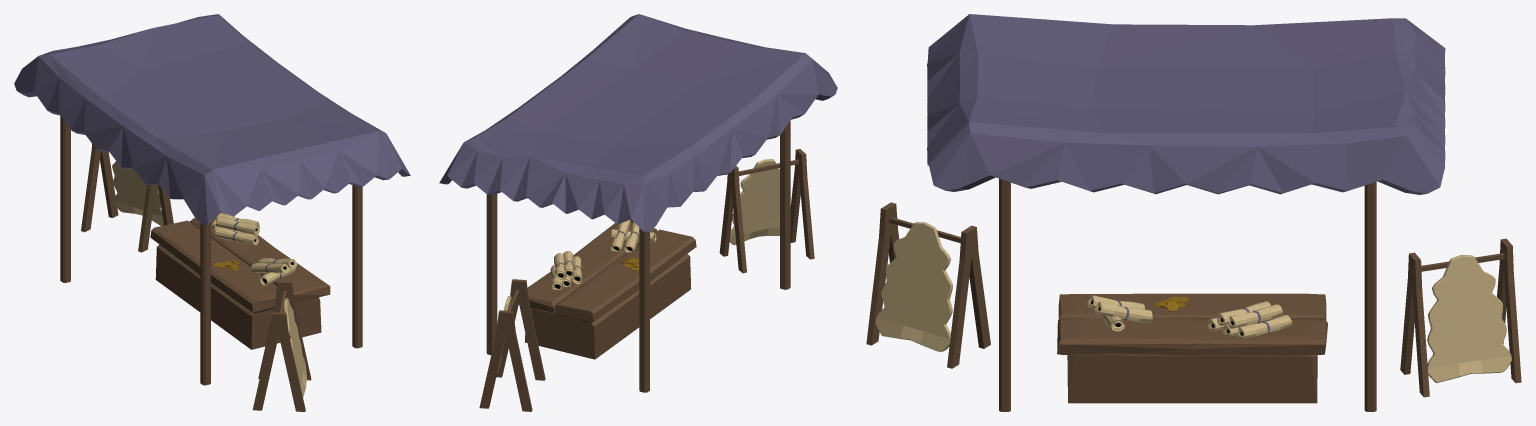
The model's file is cloth_shop.glb.
The picture shows the model from 3 angles, left to right: view 1: azimuth 30°, elevation 25°; view 2: azimuth 150°, elevation 25°; view 3: azimuth 270°, elevation 25°; orthographic projection. The views are drawn at different scales.
Parts seen in each view (by area): view 1: ClothMarket, rack.001, rack, wool, wool.001, linen, linen.003, linen.006; view 2: ClothMarket, rack, rack.001, wool.001; view 3: ClothMarket, wool, wool.001, rack.001, rack, linen.007, linen.004, linen.002.
Boxes of the visible parts, x1=… form: ClothMarket: x1=14, y1=14, x2=410, y2=385; rack.001: x1=252, y1=280, x2=311, y2=411; rack: x1=81, y1=144, x2=173, y2=252; wool: x1=112, y1=161, x2=163, y2=225; wool.001: x1=283, y1=298, x2=307, y2=397; linen: x1=214, y1=227, x2=258, y2=245; linen.003: x1=216, y1=216, x2=259, y2=234; linen.006: x1=251, y1=263, x2=289, y2=273; ClothMarket: x1=439, y1=14, x2=837, y2=392; rack: x1=479, y1=279, x2=545, y2=411; rack.001: x1=719, y1=149, x2=814, y2=273; wool.001: x1=729, y1=159, x2=779, y2=244; ClothMarket: x1=927, y1=14, x2=1445, y2=411; wool: x1=1427, y1=254, x2=1511, y2=382; wool.001: x1=875, y1=222, x2=953, y2=351; rack.001: x1=866, y1=202, x2=990, y2=368; rack: x1=1400, y1=238, x2=1521, y2=397; linen.007: x1=1095, y1=301, x2=1152, y2=322; linen.004: x1=1228, y1=304, x2=1282, y2=328; linen.002: x1=1237, y1=315, x2=1292, y2=339.
Bounding box in the file's own units: 1.94 × 2.02 × 4.04.
